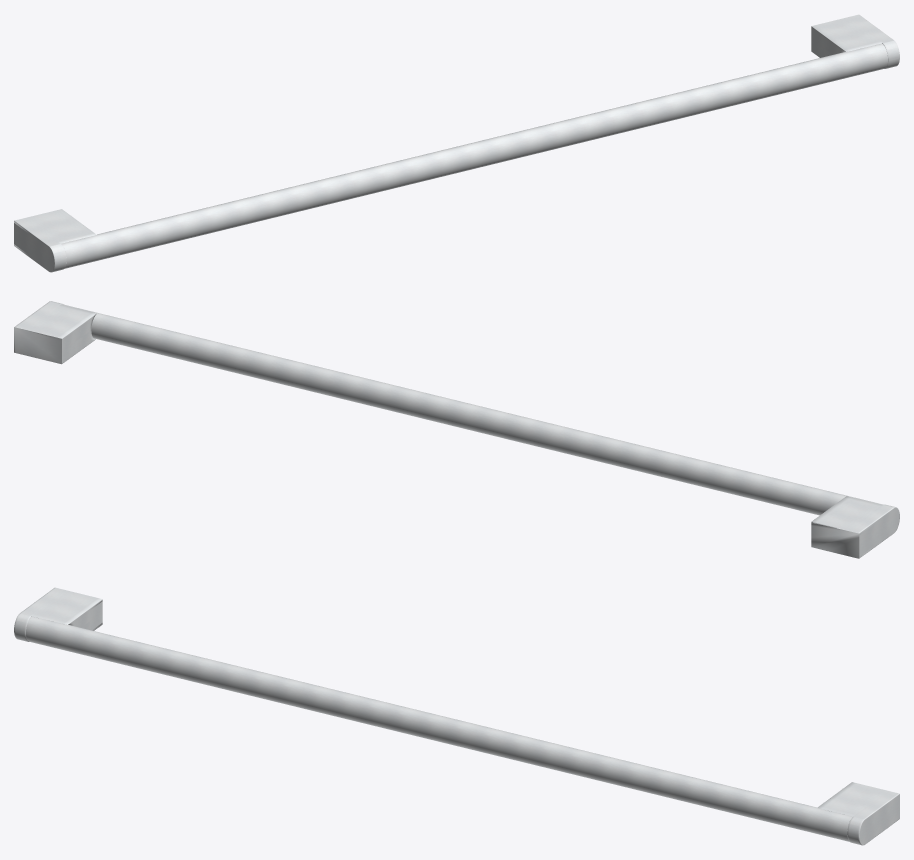
The picture shows the model from 3 angles, top to bottom: view 1: azimuth 30°, elevation 25°; view 2: azimuth 150°, elevation 25°; view 3: azimuth 330°, elevation 25°; orthographic projection.
Visible parts, largest first — view 1: 890; view 2: 890; view 3: 890.
Part boxes in pixels (x1,y1,x2,y2): 890: [14, 14, 899, 272]; 890: [14, 301, 899, 558]; 890: [14, 587, 899, 845].
Bounding box in the file's own units: 0.414 × 0.012 × 0.0347.
1 material, 1 textured.
